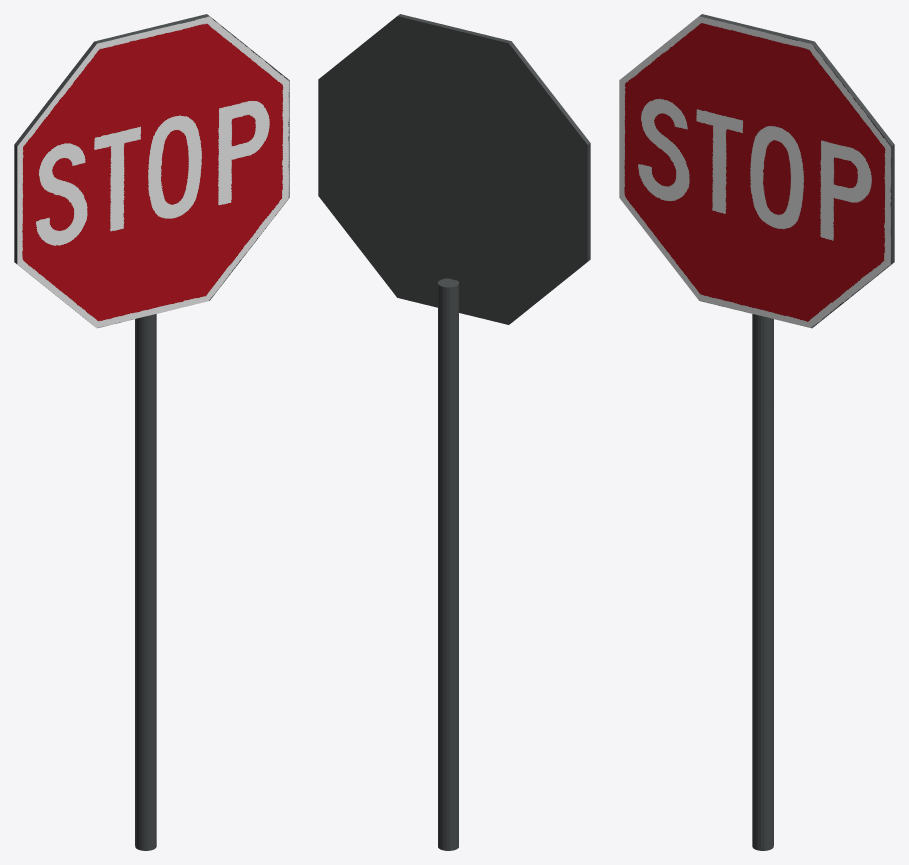
File: StopSign.fbx
3 renders of one model, left to right at view 1: azimuth 30°, elevation 25°; view 2: azimuth 150°, elevation 25°; view 3: azimuth 330°, elevation 25°, orthographic.
Parts seen in each view (by area): view 1: Sign, Post; view 2: Sign, Post; view 3: Sign, Post.
Boxes of the visible parts, x1,y1,x2,y2 form: Sign: (14, 14, 289, 328); Post: (135, 314, 156, 850); Sign: (318, 14, 590, 324); Post: (438, 278, 458, 850); Sign: (619, 14, 894, 328); Post: (752, 314, 773, 850).
Size of what is drawn, in the model's own units: 50 by 144 by 4.12.
